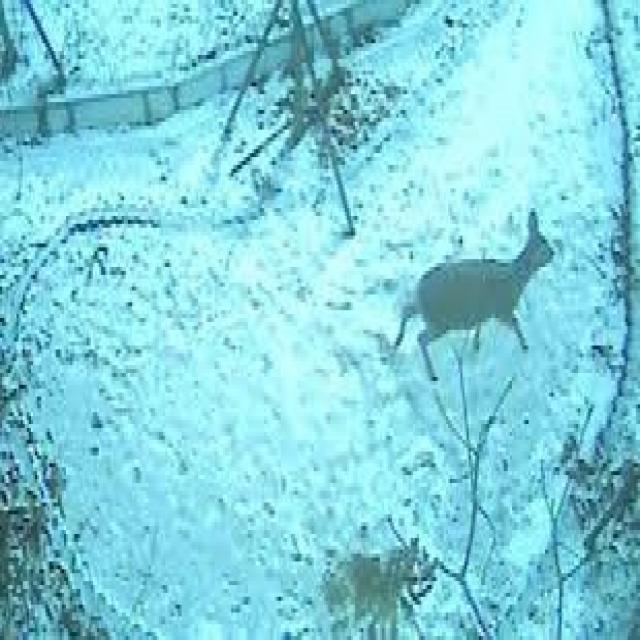elk: (372, 198, 575, 388)
